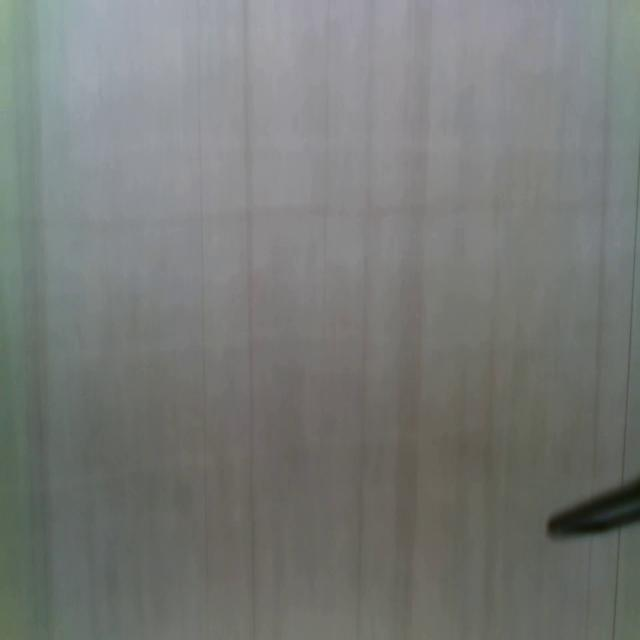color bleeding: (0, 189, 639, 233)
crease: (591, 5, 614, 482), (242, 0, 258, 640), (354, 188, 372, 640), (196, 21, 209, 627), (622, 150, 640, 483), (322, 1, 333, 269), (610, 529, 624, 640), (583, 535, 596, 640)
